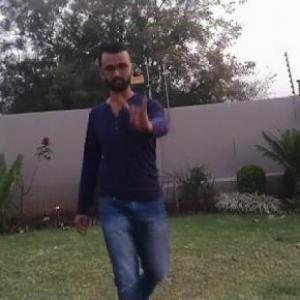takeoff-hand: (114, 82, 154, 136)
